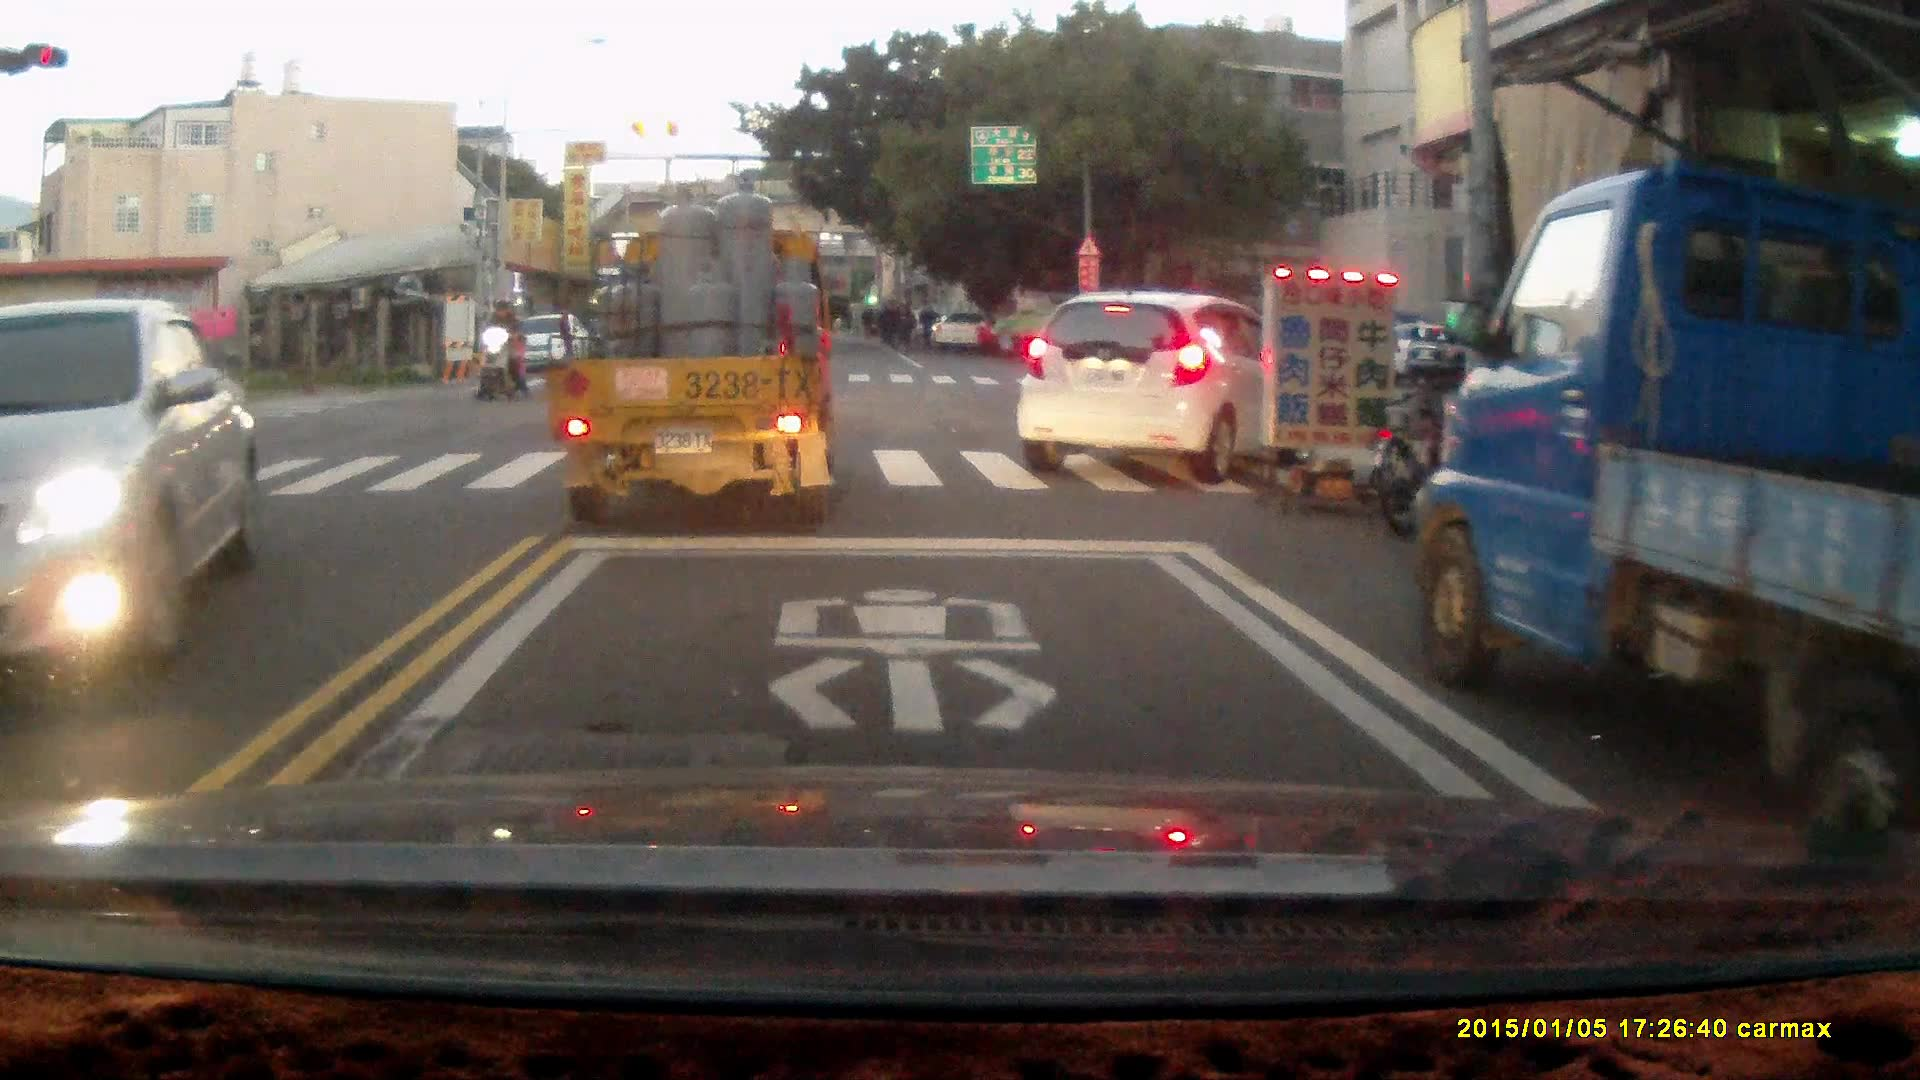rider: (475, 298, 528, 401)
vehicle: (1404, 170, 1920, 818), (544, 177, 842, 526), (1, 296, 257, 698), (1014, 287, 1290, 470), (507, 312, 588, 379)
